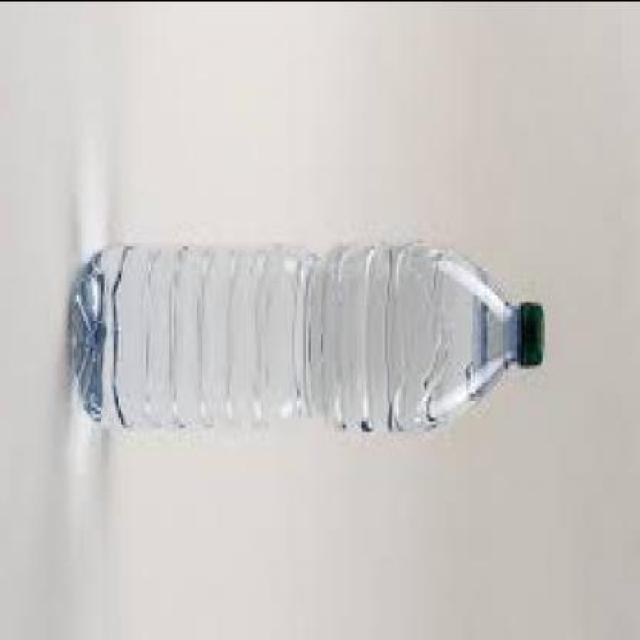PLASTIC: (71, 248, 547, 438), (517, 304, 548, 374)
